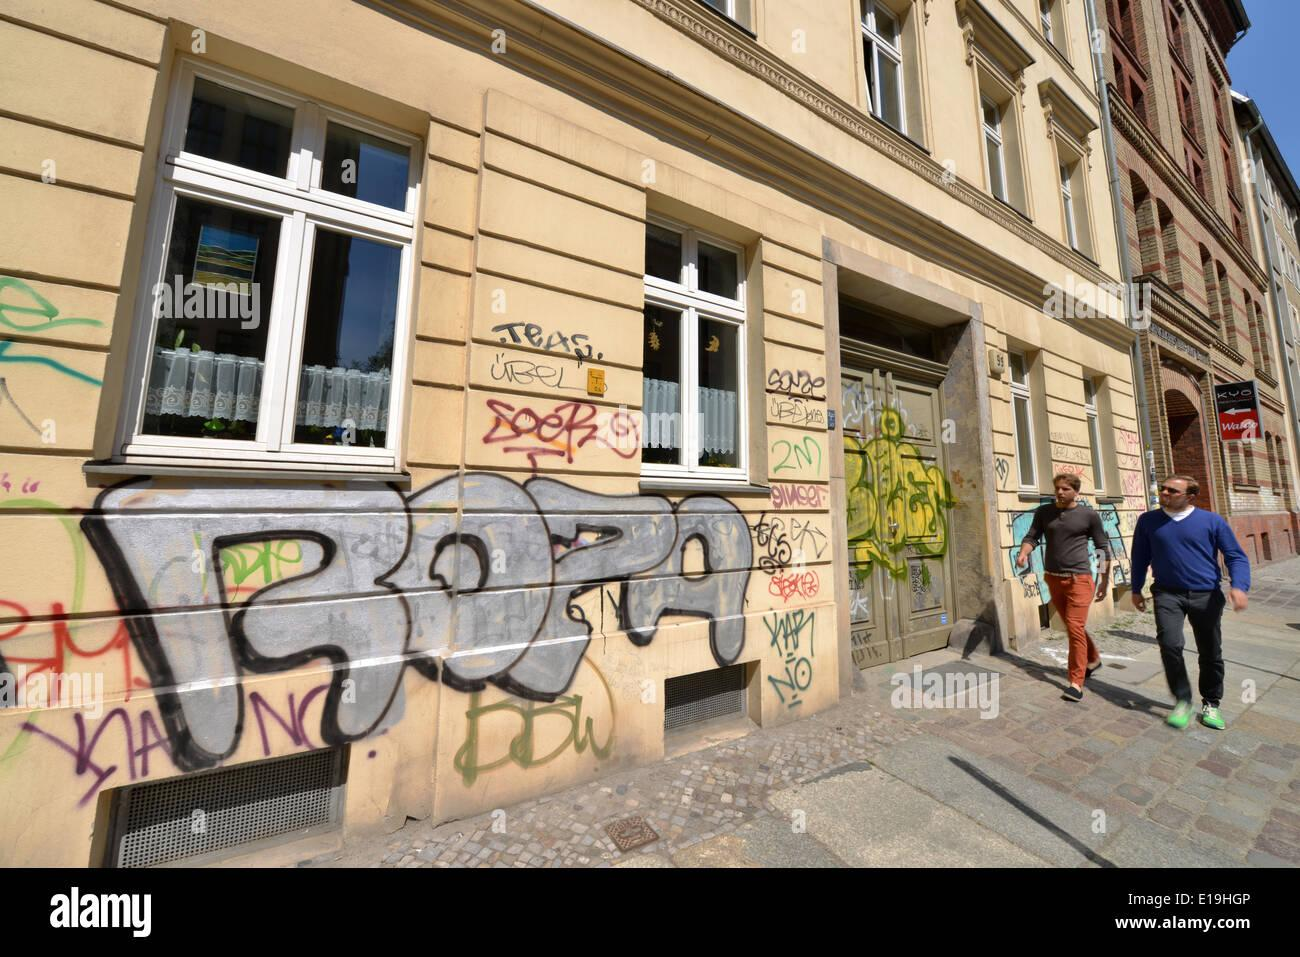graffiti: (0, 472, 751, 771), (843, 369, 957, 632), (753, 369, 835, 724), (469, 321, 641, 475), (453, 694, 617, 785), (0, 516, 110, 611), (1014, 503, 1119, 576), (0, 275, 105, 333), (1050, 434, 1103, 491), (0, 354, 99, 383), (1114, 427, 1146, 509), (995, 454, 1012, 493), (0, 340, 10, 360)
